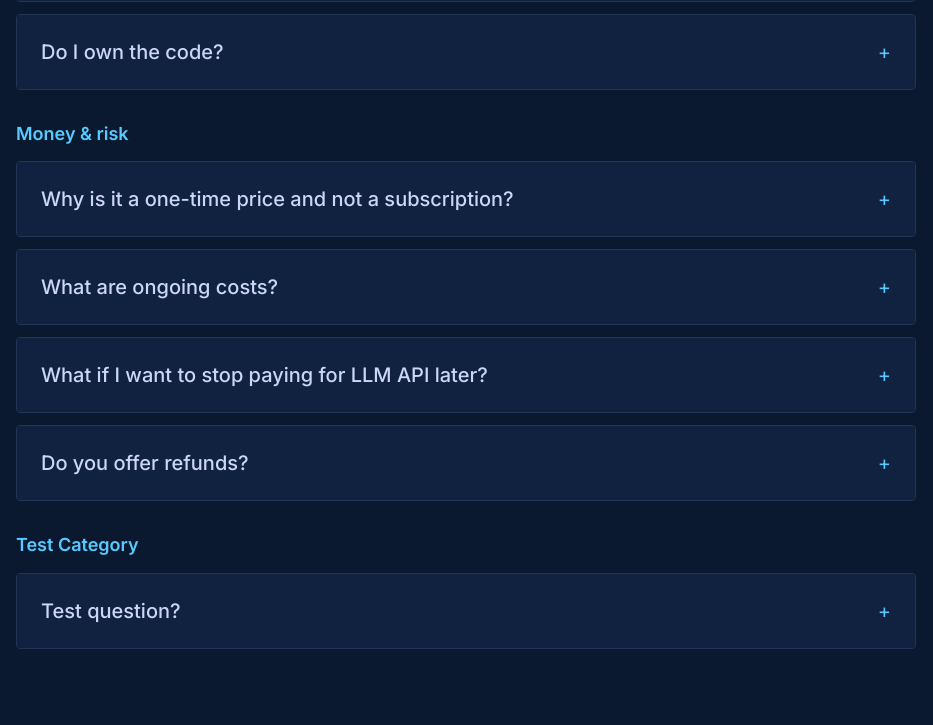
Test: FAQ › shows + icon when closed and - icon when open
The width and height of the screenshot is (933, 725).
(page scrolled)
What coordinates should you click on to do the following:
click the button "Test question? +"
I would click on:
 (111, 611)
Its box is x1=17 y1=574 x2=915 y2=648.
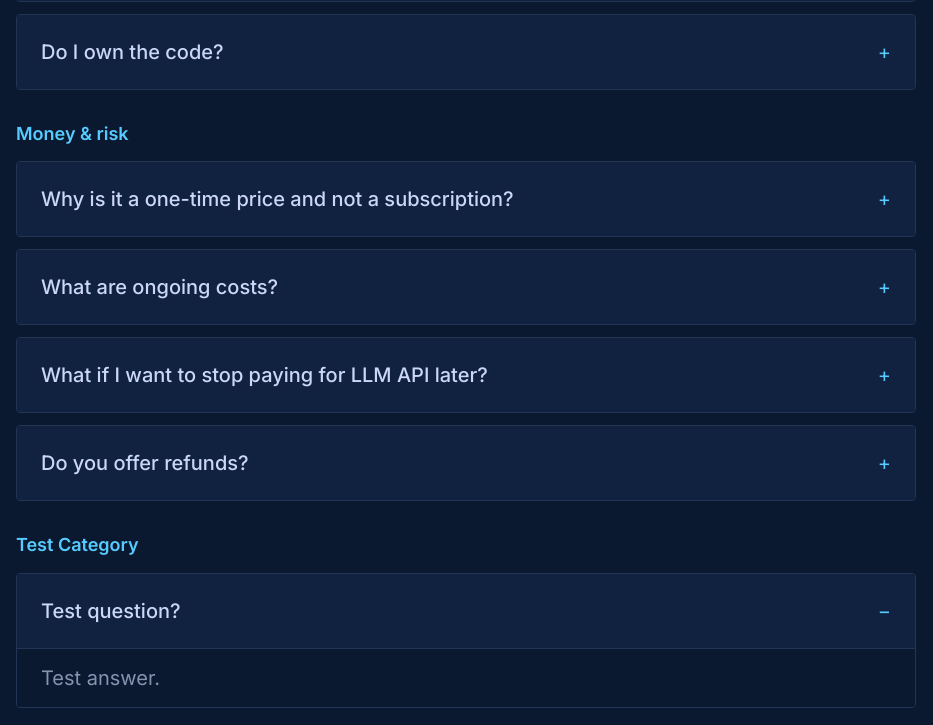
Now the button "Test question? −" is shown, box x1=17 y1=574 x2=915 y2=648
